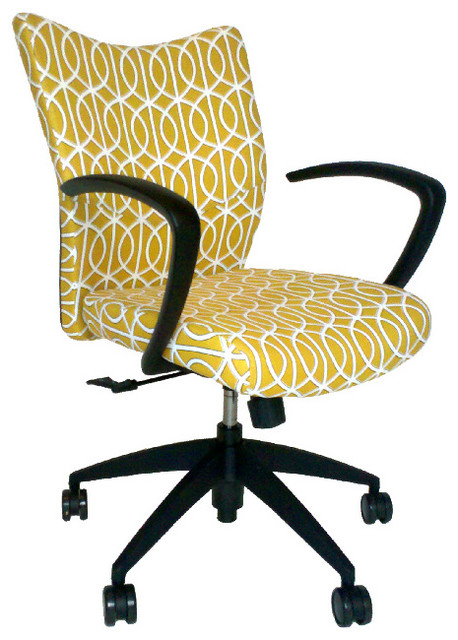chairs: (11, 12, 447, 628)
